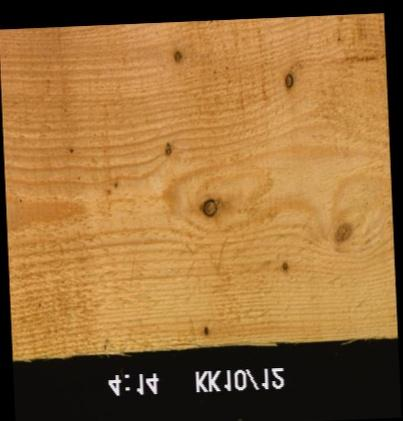dry_knot: (280, 71, 294, 91)
small_knot: (160, 137, 174, 160), (169, 47, 182, 67), (276, 259, 289, 273), (199, 323, 210, 338), (64, 144, 76, 157), (109, 178, 120, 191)
sound_knot: (330, 221, 353, 244)
